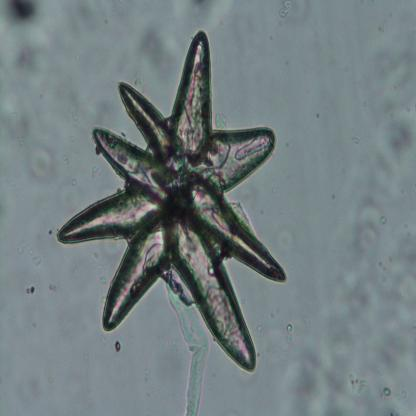Background material: (289, 195, 384, 410), (364, 98, 416, 198), (2, 104, 57, 184), (383, 218, 415, 345), (0, 32, 59, 92), (50, 76, 86, 150), (360, 53, 402, 110), (141, 31, 179, 86), (6, 0, 44, 31), (54, 175, 82, 212), (16, 241, 46, 268), (346, 367, 366, 393), (374, 375, 392, 403), (344, 131, 365, 152), (279, 1, 293, 22), (26, 285, 36, 295), (115, 342, 120, 354)
Cellulose filter fibre: (164, 301, 207, 414)
